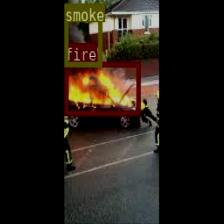fire: (63, 61, 140, 114)
smoke: (64, 3, 102, 66)
